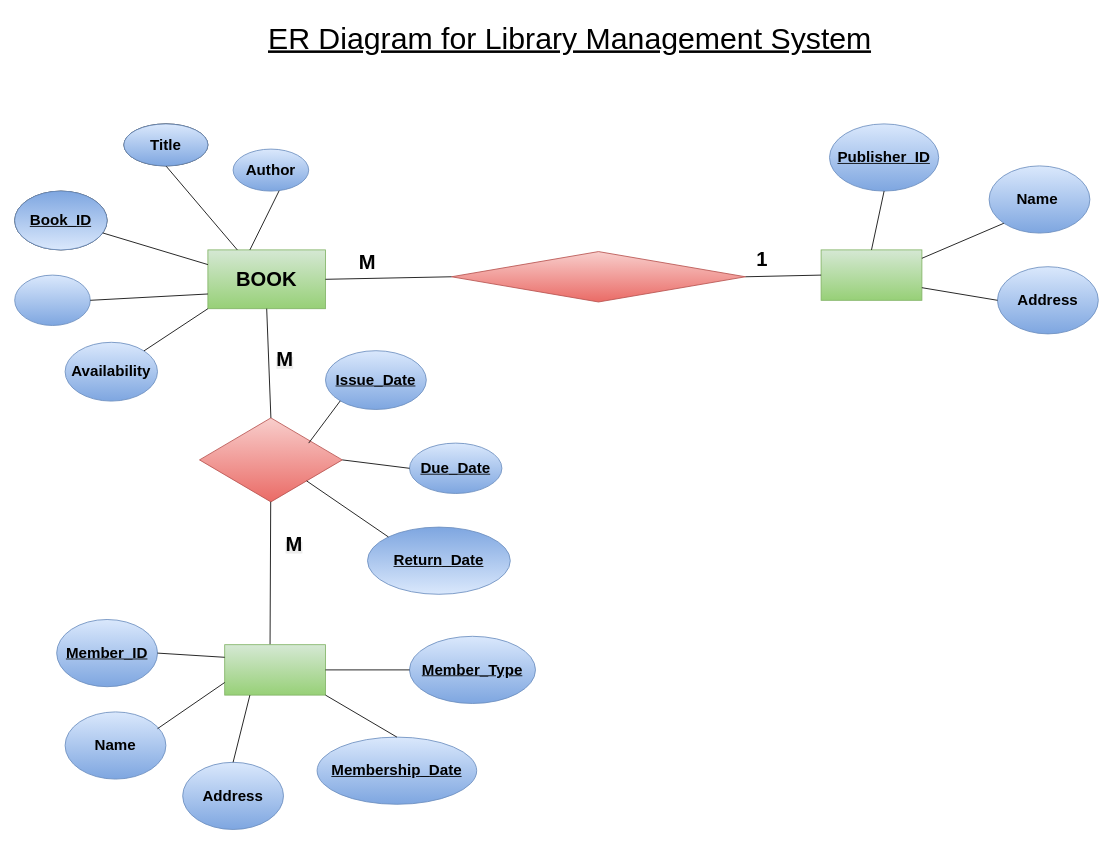
Image size: 1113x844. Some labels were removed from this diagram. Here are the shapes that lost their labels. From the top down, the box of each, then its label:
(451, 251, 746, 302): Published by
(820, 249, 922, 300): Publisher
(14, 274, 90, 326): Price
(199, 417, 342, 502): Borrows
(224, 644, 326, 695): Member
